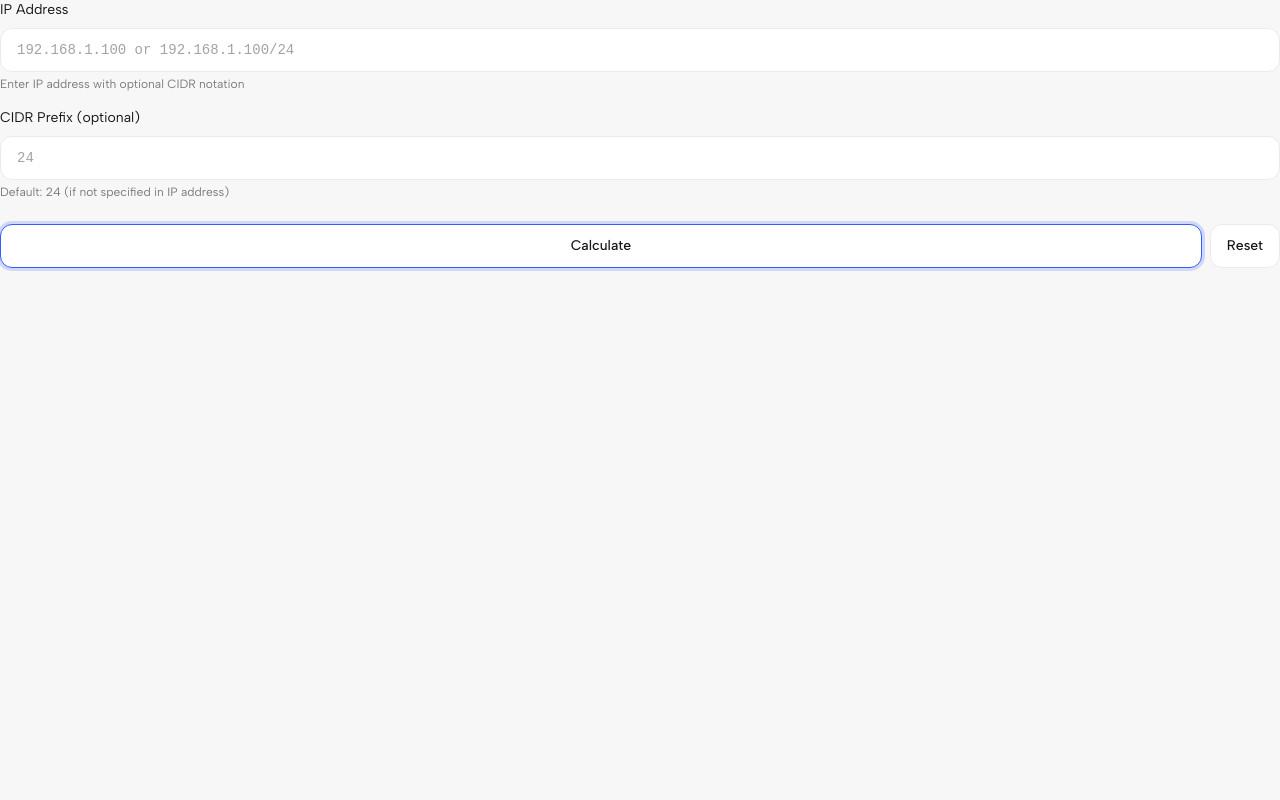
Test: IpCalculatorTool › uses default CIDR /24 when not specified
Type "192.168.1.100" into the field with placeholder "192.168.1.100 or 192.168.1.100/24" at (640, 50), box [0,28,1279,72]
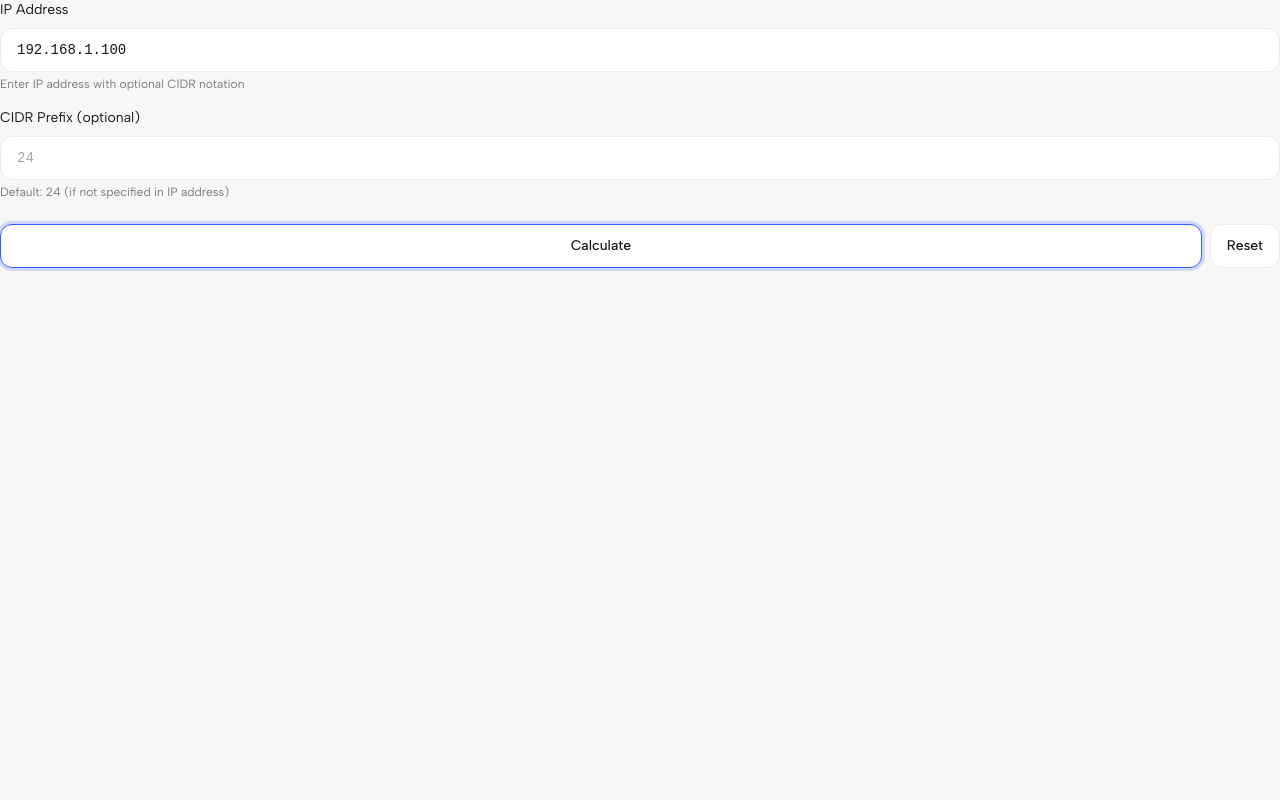
Click the button "Calculate" at (601, 246), box [0,224,1202,268]
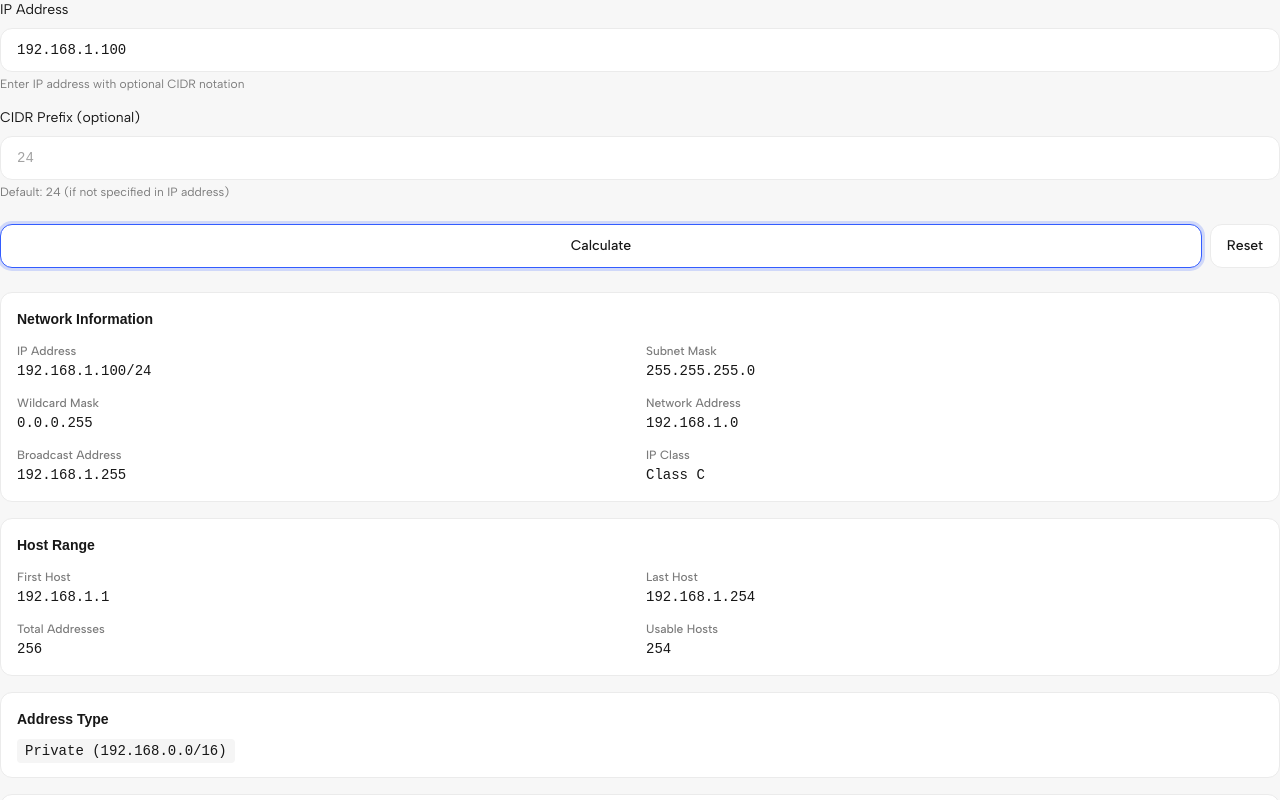
Result: the text "192.168.1.100/24" is shown at [17,363,151,379]
